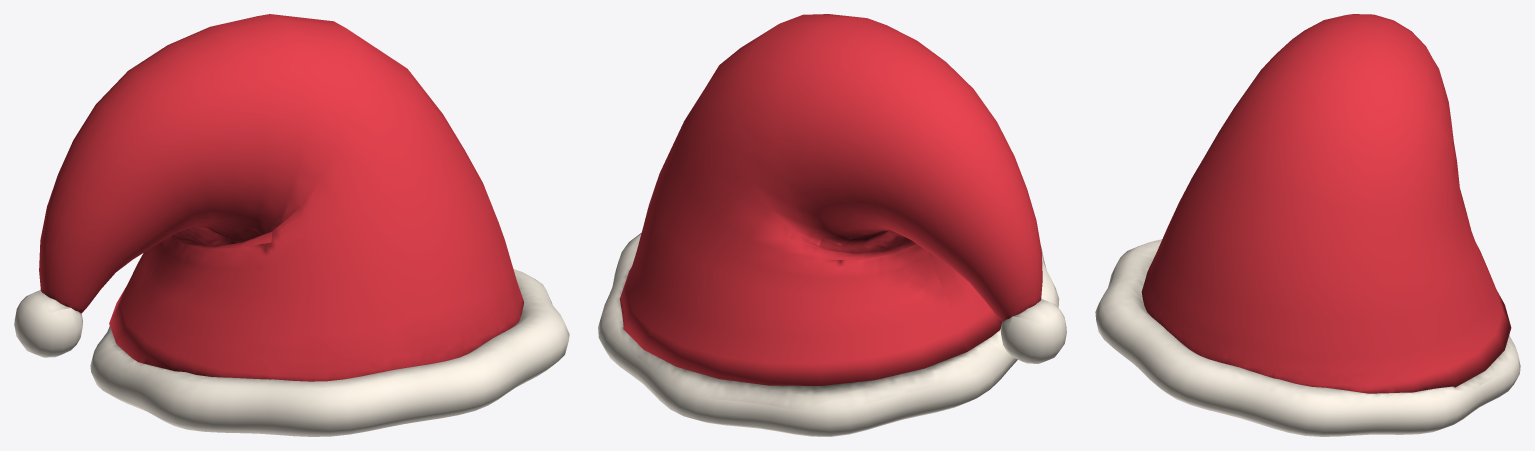
File: hat_santa.glb
The picture shows the model from 3 angles, left to right: view 1: azimuth 30°, elevation 25°; view 2: azimuth 150°, elevation 25°; view 3: azimuth 270°, elevation 25°; orthographic projection. The views are drawn at different scales.
Visible parts, largest first — view 1: hat_santa; view 2: hat_santa; view 3: hat_santa.
Boxes of the visible parts, box(x1,y1,x2,y2) form: hat_santa: box(14, 14, 569, 436); hat_santa: box(598, 14, 1066, 436); hat_santa: box(1095, 14, 1520, 436).
Bounding box in the file's own units: 0.8279 × 0.5855 × 0.6995.
2 materials, 2 textured.
